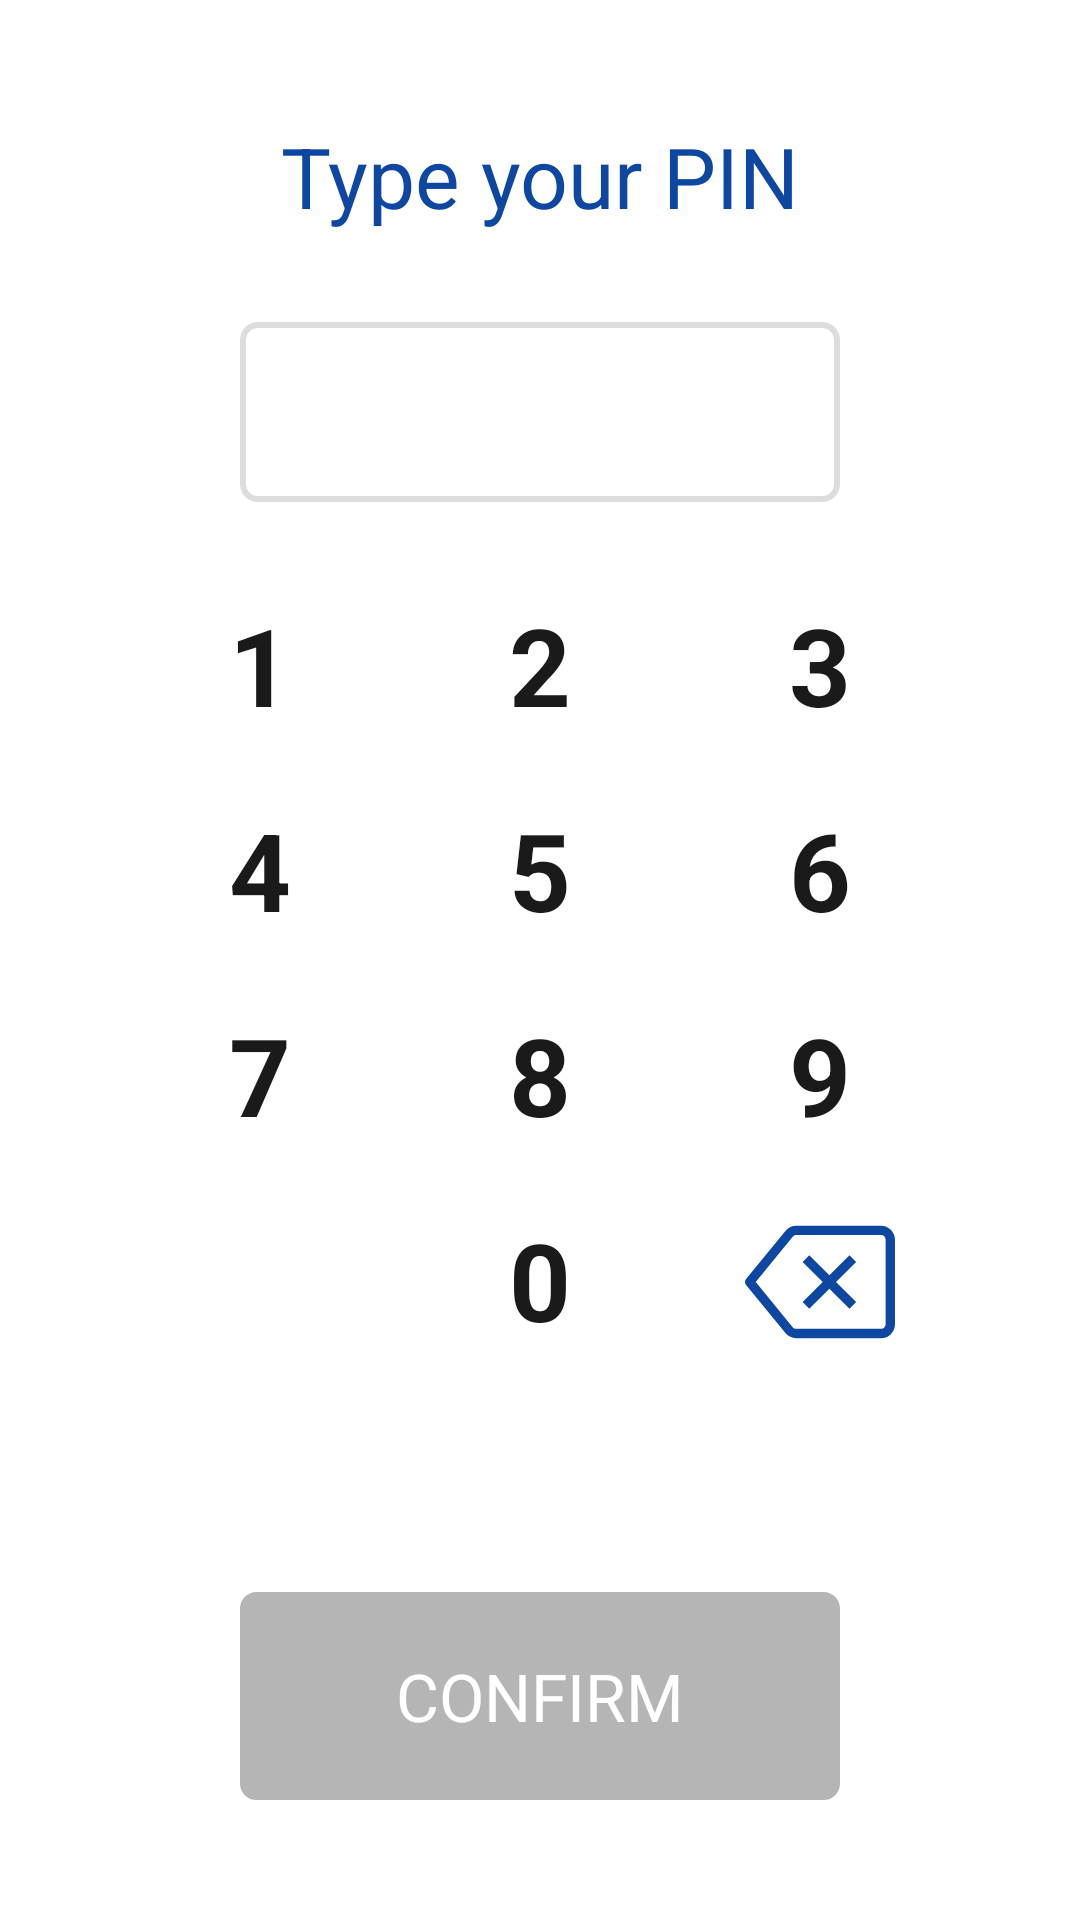

Icon click points for this 1080px x 1920px phone screenshot, format [x,y]:
pin delete: [820,1282]
